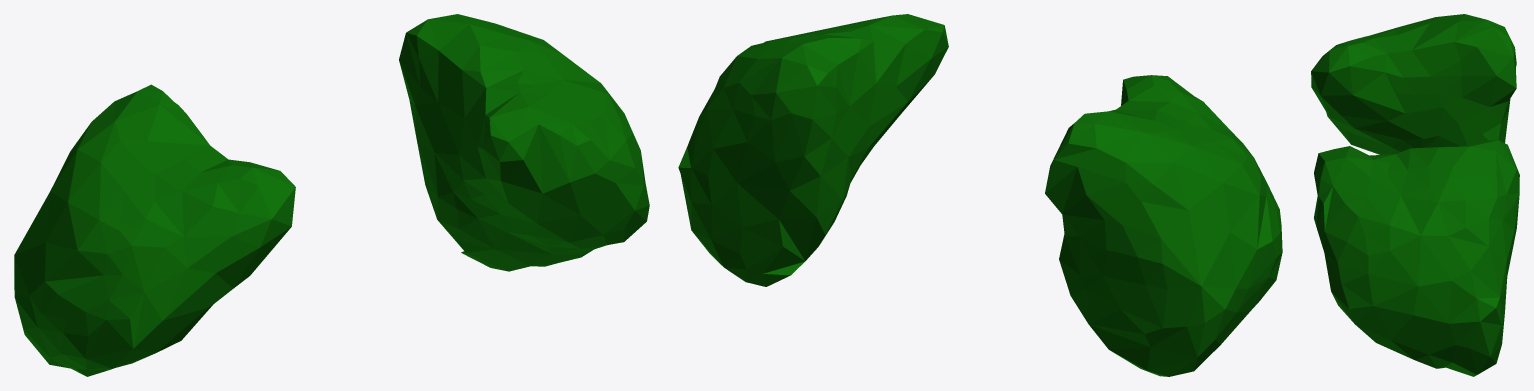
The model's file is 148-AcbC-accumbens nucleus, core-('0.0353', '0.4980', '0.0000').obj.
The picture shows the model from 3 angles, left to right: view 1: azimuth 30°, elevation 25°; view 2: azimuth 150°, elevation 25°; view 3: azimuth 270°, elevation 25°; orthographic projection. The views are drawn at different scales.
Size of the model in its own units: 78.63 by 34.02 by 30.83.
